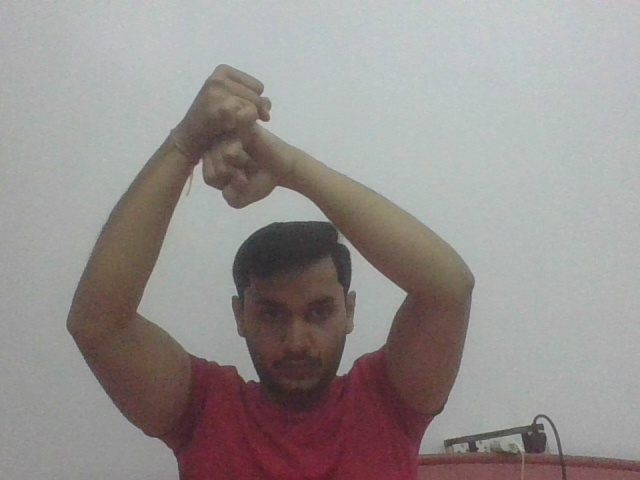S: (194, 57, 282, 211)
